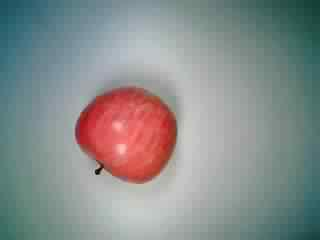apple: (74, 80, 178, 184)
